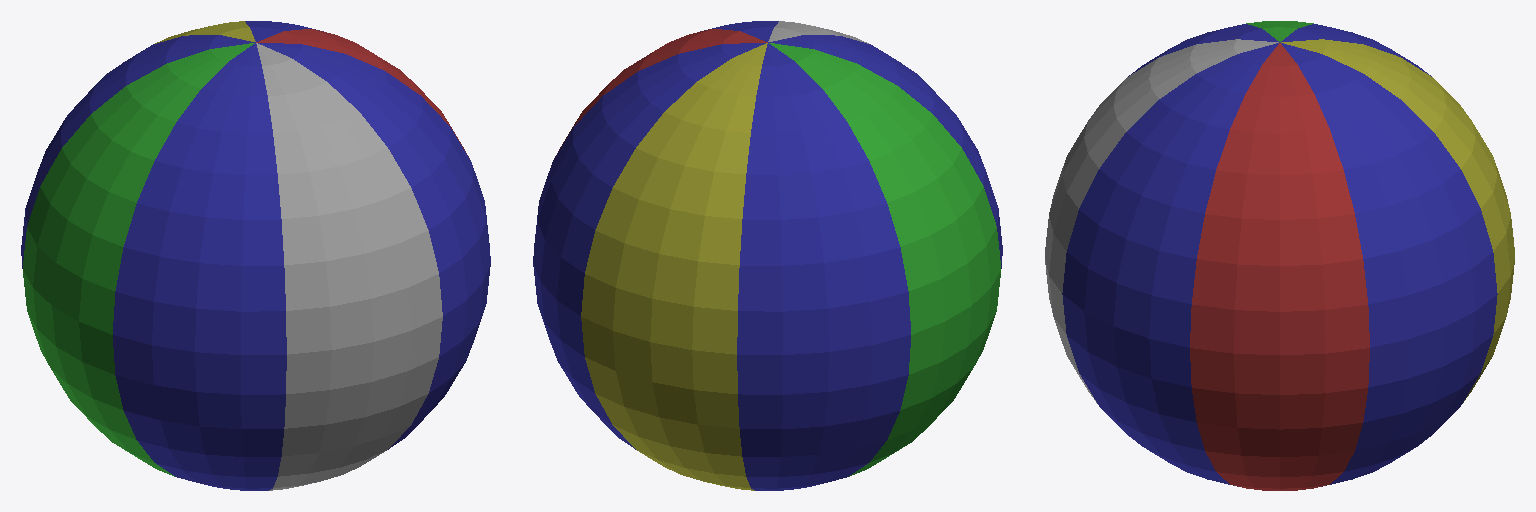
The model's file is beachball.obj.
The picture shows the model from 3 angles: view 1: azimuth 30°, elevation 25°; view 2: azimuth 150°, elevation 25°; view 3: azimuth 270°, elevation 25°; orthographic projection.
Visible parts, largest first — view 1: Sphere_Sphere.001; view 2: Sphere_Sphere.001; view 3: Sphere_Sphere.001.
Part boxes in pixels (x1,y1,x2,y2): Sphere_Sphere.001: (21, 21, 490, 490); Sphere_Sphere.001: (533, 21, 1002, 490); Sphere_Sphere.001: (1045, 21, 1514, 490).
Size of the model in its own units: 2 by 2 by 2.